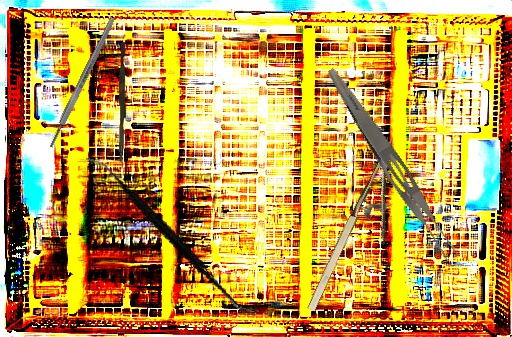Dressing Forceps: (317, 64, 465, 266)
Needle Holder: (301, 136, 429, 327)
Pusher: (117, 42, 128, 168)
Scalpel Handle: (47, 16, 117, 149)
Spatula Surgical: (60, 155, 285, 314)
